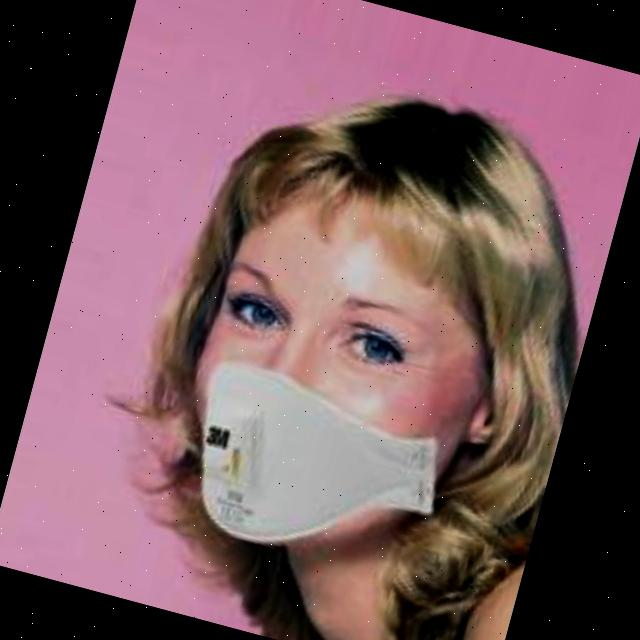suspicion: (72, 31, 624, 639)
